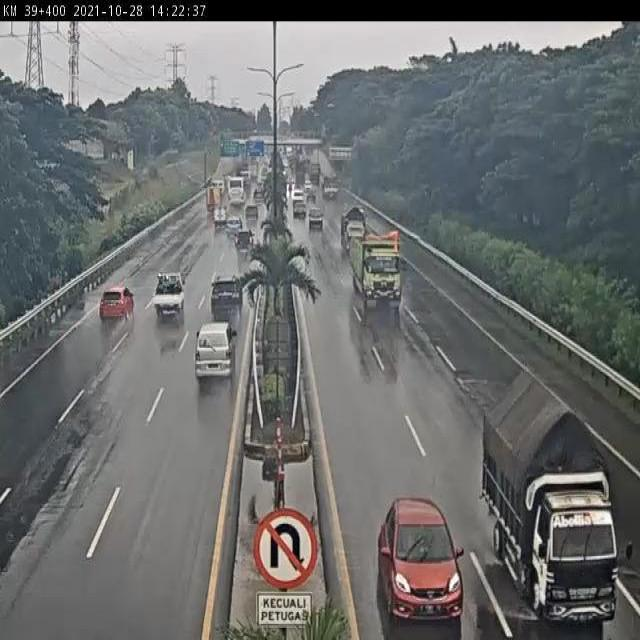car: (212, 272, 246, 315), (155, 270, 186, 314)
truck-l-: (351, 235, 405, 308)
truck-s-: (484, 371, 614, 624), (340, 205, 367, 256)
